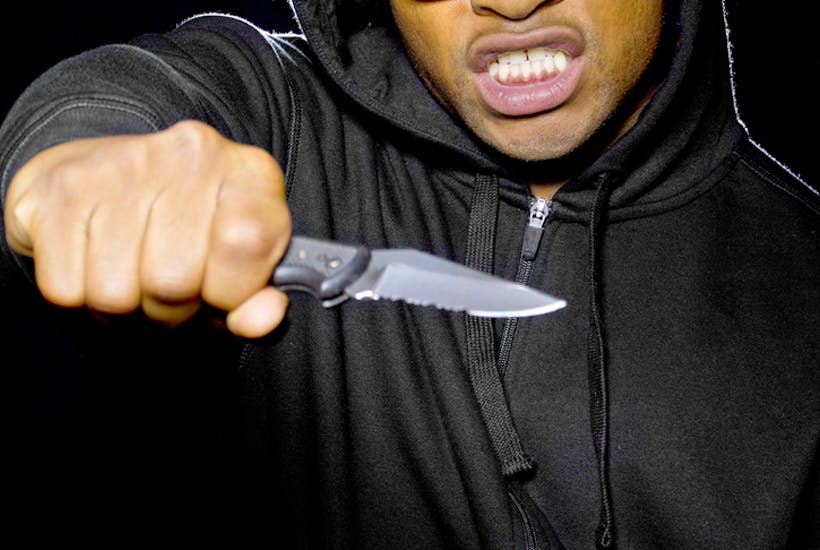knife: (278, 217, 570, 338)
